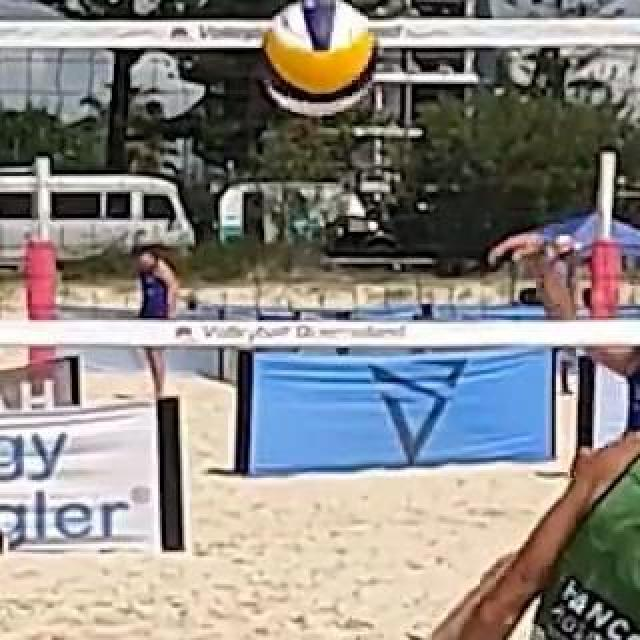volleyball: (260, 0, 378, 116)
